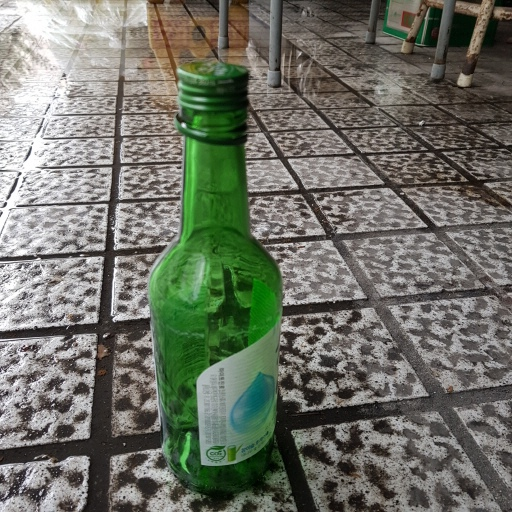Glass_0: (149, 60, 283, 486)
